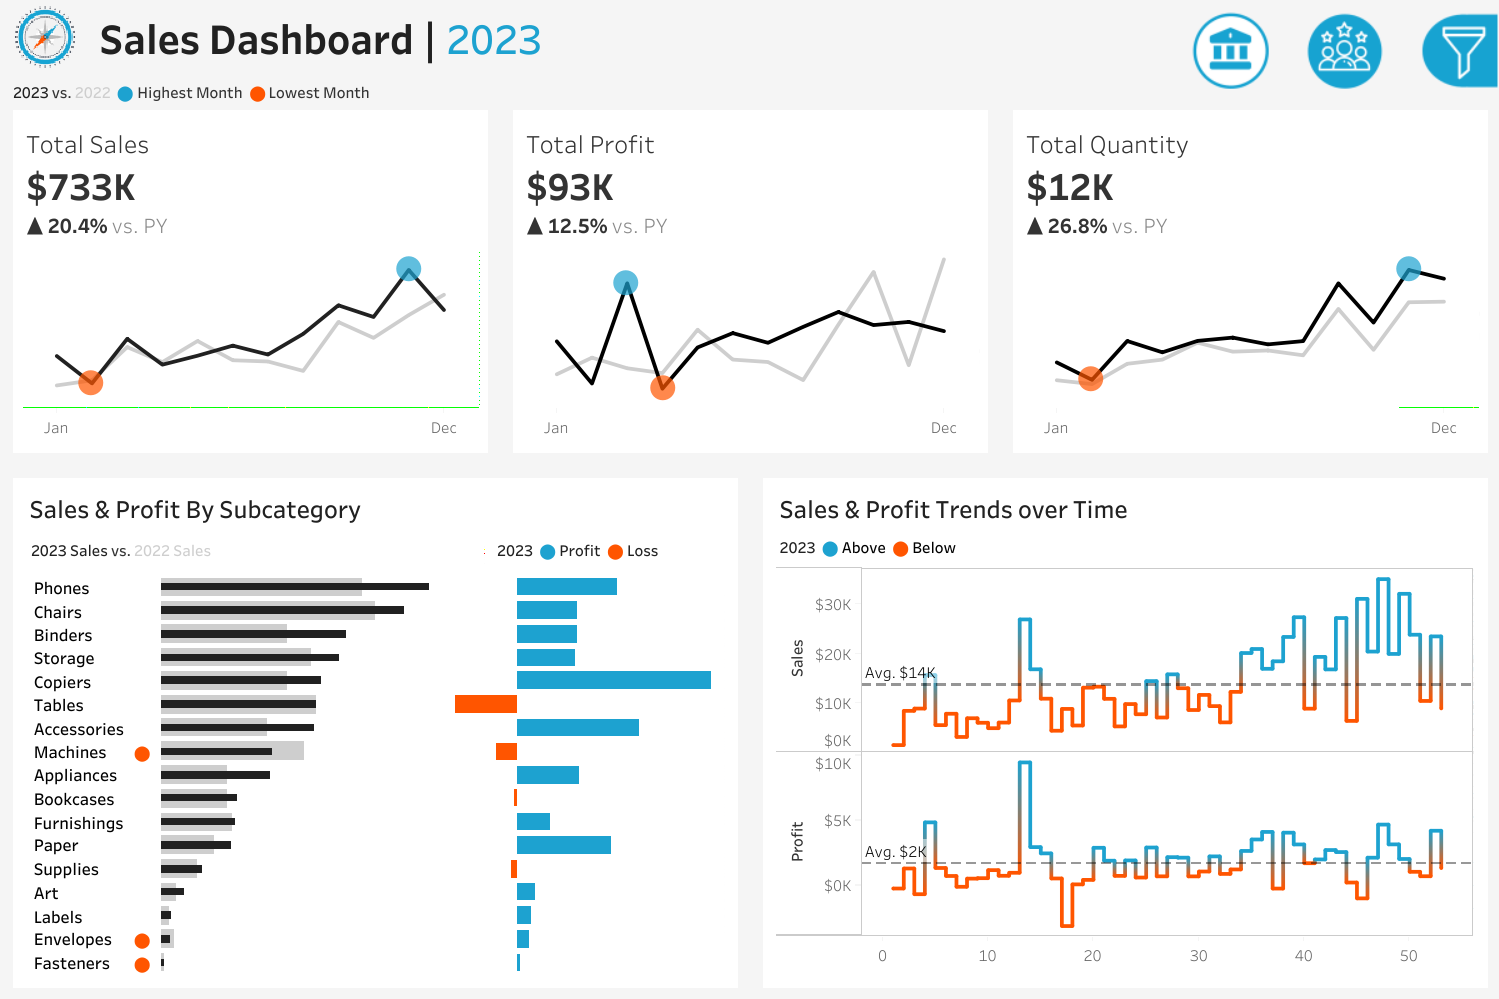

The dashboard page shown, as its layout file describes it:
{"tool":"tableau","page":{"name":"Sales Dashboard","canvas":[1200,800],"ordinal":1},"visuals":[{"type":"image","param":"Image/Icon - Logo.png","box":[0,0,73,59]},{"type":"text","box":[73,0,820,59]},{"type":"dashboard-object","box":[940,6,91,70]},{"type":"dashboard-object","box":[1031,6,91,70]},{"type":"blank","box":[952,10,237,86]},{"type":"worksheet","title":"Legend KPI","mark":"Automatic","box":[0,59,1200,29]},{"type":"worksheet","title":"KPI Sales","mark":"Automatic","rows":["Calculation_721701895347843083"],"cols":["Order Date"],"box":[0,88,400,284]},{"type":"worksheet","title":"KPI Profit","mark":"Automatic","rows":["Min/Max Sales (copy)_237846410425847814"],"cols":["Order Date"],"box":[400,88,400,284]},{"type":"worksheet","title":"KPI Quantity","mark":"Automatic","rows":["Min/Max Sales (copy) (copy)_237846410425856007"],"cols":["Order Date"],"box":[800,88,400,284]},{"type":"text","box":[952,96,237,40]},{"type":"parameter","param":"[Parameters].[Parameter 1]","box":[952,136,237,56]},{"type":"text","box":[952,192,237,33]},{"type":"filter","title":"KPI Sales","param":"[federated.1kpxa041aiai2y1cl4pui1t4eju9].[none:Category:nk]","box":[952,225,237,61]},{"type":"filter","title":"KPI Sales","param":"[federated.1kpxa041aiai2y1cl4pui1t4eju9].[none:Sub-Category:nk]","box":[952,286,237,61]},{"type":"blank","box":[952,347,237,60]},{"type":"text","box":[17,389,566,40]},{"type":"text","box":[617,389,566,40]},{"type":"text","box":[952,407,237,33]},{"type":"worksheet","title":"Legend Subcategory","mark":"Automatic","box":[17,429,374,32]},{"type":"text","box":[391,429,192,32]},{"type":"text","box":[617,429,566,29]},{"type":"filter","title":"KPI Sales","param":"[federated.1kpxa041aiai2y1cl4pui1t4eju9].[none:Region:nk]","box":[952,440,237,61]},{"type":"worksheet","title":"Weekly Trends","mark":"Automatic","rows":["Calculation_721701895334993921","CY Sales (copy)_237846410424180736"],"cols":["Order Date"],"box":[617,458,566,325]},{"type":"worksheet","title":"Subcategory Comparison","mark":"Bar","rows":["Sub-Category","Calculation_2435040078806671369"],"cols":["CY Sales (copy)_721701895335804930","Calculation_721701895334993921","CY Sales (copy)_237846410424180736"],"box":[17,461,566,321.9]},{"type":"filter","title":"KPI Sales","param":"[federated.1kpxa041aiai2y1cl4pui1t4eju9].[none:State:nk]","box":[952,501,237,61]},{"type":"filter","title":"KPI Sales","param":"[federated.1kpxa041aiai2y1cl4pui1t4eju9].[none:City:nk]","box":[952,562,237,61]}]}

Visuals, with their boxes in screenshot pixels (x1, y1, x2, y2), scaled from the page's 1200x800 canvas onto the 1499x999 screenshot:
image: {"x1": 0, "y1": 0, "x2": 91, "y2": 74}
text: {"x1": 91, "y1": 0, "x2": 1116, "y2": 74}
dashboard-object: {"x1": 1174, "y1": 7, "x2": 1288, "y2": 95}
dashboard-object: {"x1": 1288, "y1": 7, "x2": 1402, "y2": 95}
blank: {"x1": 1189, "y1": 12, "x2": 1485, "y2": 120}
"Legend KPI" worksheet: {"x1": 0, "y1": 74, "x2": 1498, "y2": 110}
"KPI Sales" worksheet: {"x1": 0, "y1": 110, "x2": 500, "y2": 465}
"KPI Profit" worksheet: {"x1": 500, "y1": 110, "x2": 999, "y2": 465}
"KPI Quantity" worksheet: {"x1": 999, "y1": 110, "x2": 1498, "y2": 465}
text: {"x1": 1189, "y1": 120, "x2": 1485, "y2": 170}
parameter: {"x1": 1189, "y1": 170, "x2": 1485, "y2": 240}
text: {"x1": 1189, "y1": 240, "x2": 1485, "y2": 281}
"KPI Sales" filter: {"x1": 1189, "y1": 281, "x2": 1485, "y2": 357}
"KPI Sales" filter: {"x1": 1189, "y1": 357, "x2": 1485, "y2": 433}
blank: {"x1": 1189, "y1": 433, "x2": 1485, "y2": 508}
text: {"x1": 21, "y1": 486, "x2": 728, "y2": 536}
text: {"x1": 771, "y1": 486, "x2": 1478, "y2": 536}
text: {"x1": 1189, "y1": 508, "x2": 1485, "y2": 549}
"Legend Subcategory" worksheet: {"x1": 21, "y1": 536, "x2": 488, "y2": 576}
text: {"x1": 488, "y1": 536, "x2": 728, "y2": 576}
text: {"x1": 771, "y1": 536, "x2": 1478, "y2": 572}
"KPI Sales" filter: {"x1": 1189, "y1": 549, "x2": 1485, "y2": 626}
"Weekly Trends" worksheet: {"x1": 771, "y1": 572, "x2": 1478, "y2": 978}
"Subcategory Comparison" worksheet (Bar marks): {"x1": 21, "y1": 576, "x2": 728, "y2": 978}
"KPI Sales" filter: {"x1": 1189, "y1": 626, "x2": 1485, "y2": 702}
"KPI Sales" filter: {"x1": 1189, "y1": 702, "x2": 1485, "y2": 778}
